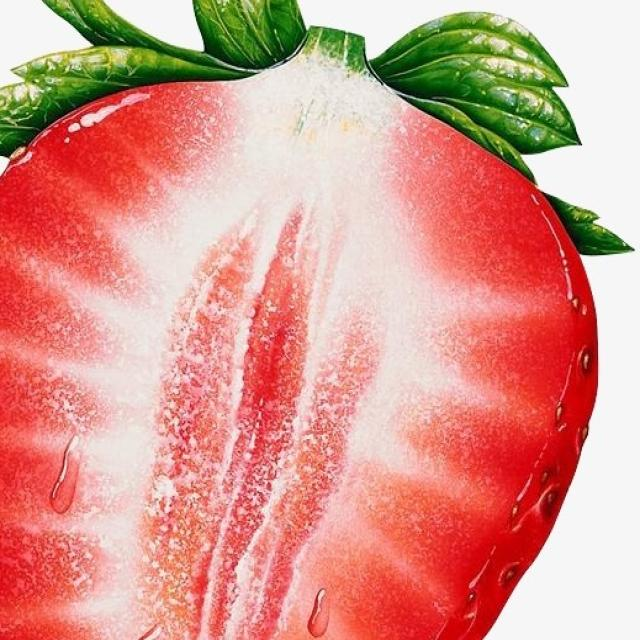strawberry: (0, 0, 615, 640)
